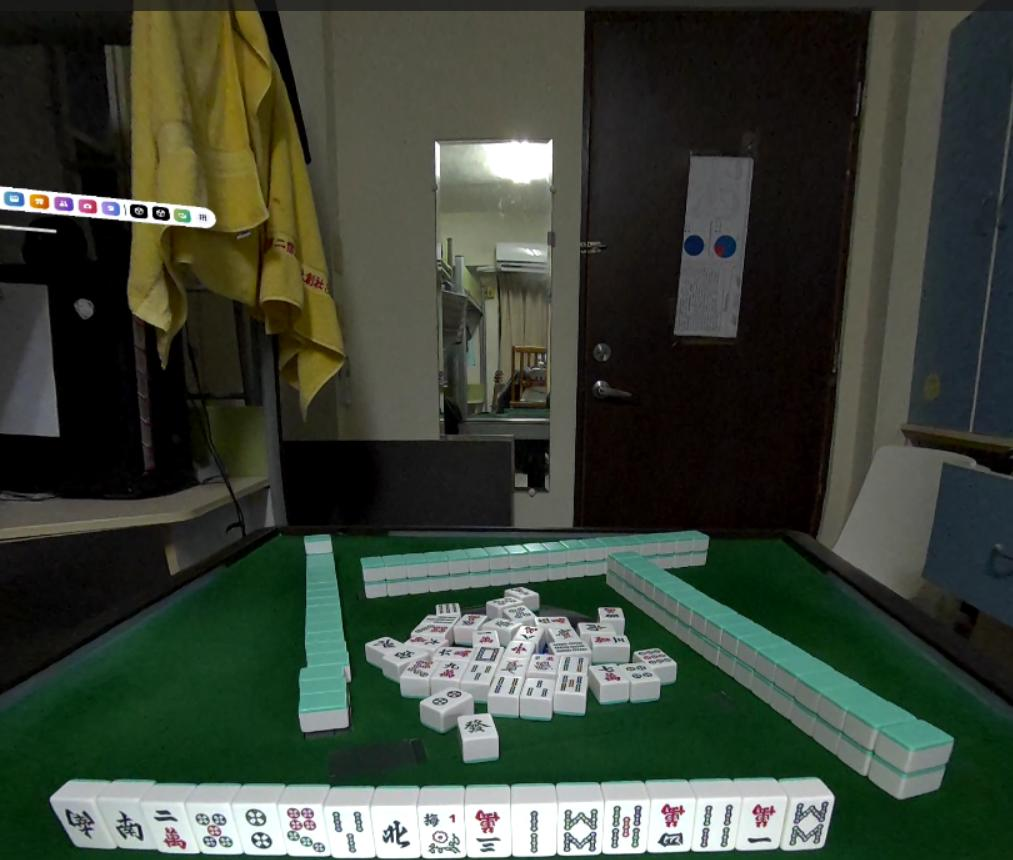mahjong: (781, 797, 839, 857), (547, 799, 603, 854), (94, 787, 147, 843), (369, 804, 420, 860), (234, 800, 284, 856), (644, 796, 692, 851), (689, 793, 730, 856), (279, 797, 324, 854), (323, 796, 364, 857), (736, 799, 785, 849), (191, 802, 239, 853), (421, 809, 469, 860), (144, 799, 185, 855), (466, 807, 509, 860), (59, 800, 108, 845), (513, 803, 555, 853), (606, 805, 647, 856)
